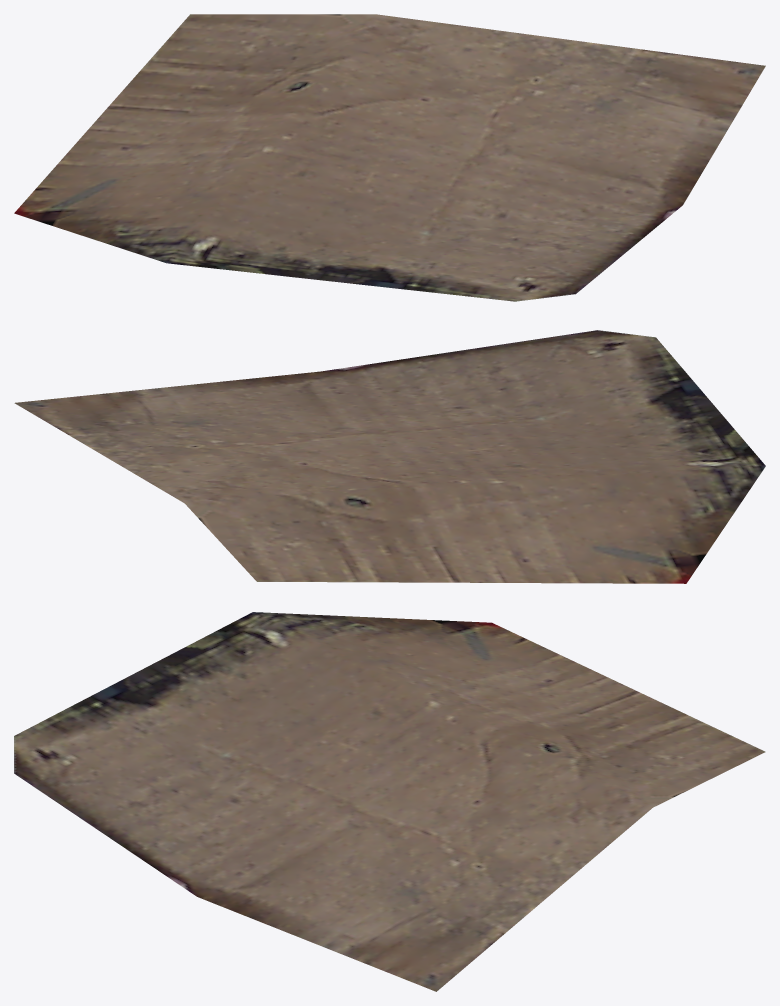
The model's file is Garbage1E_LOD1.fbx.
3 renders of one model, top to bottom at view 1: azimuth 30°, elevation 25°; view 2: azimuth 150°, elevation 25°; view 3: azimuth 270°, elevation 25°, orthographic. The views are drawn at different scales.
Visible parts, largest first — view 1: polySurface860; view 2: polySurface860; view 3: polySurface860.
Part boxes in pixels (x1,y1,x2,y2): polySurface860: (14,14,765,301); polySurface860: (14,330,765,583); polySurface860: (14,612,765,991).
Bounding box in the file's own units: 0.7635 × 0.0476 × 0.6743.
